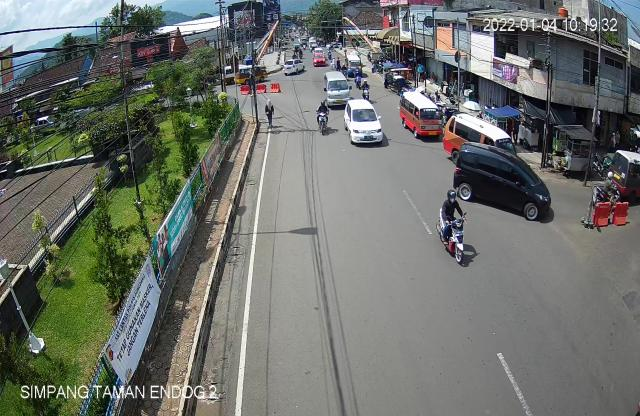Mobil: (452, 142, 553, 221), (442, 111, 517, 166), (399, 88, 443, 155), (340, 100, 388, 152), (612, 144, 640, 205), (324, 69, 350, 110)
Motor: (436, 188, 470, 267), (594, 172, 620, 210), (316, 100, 332, 139)
